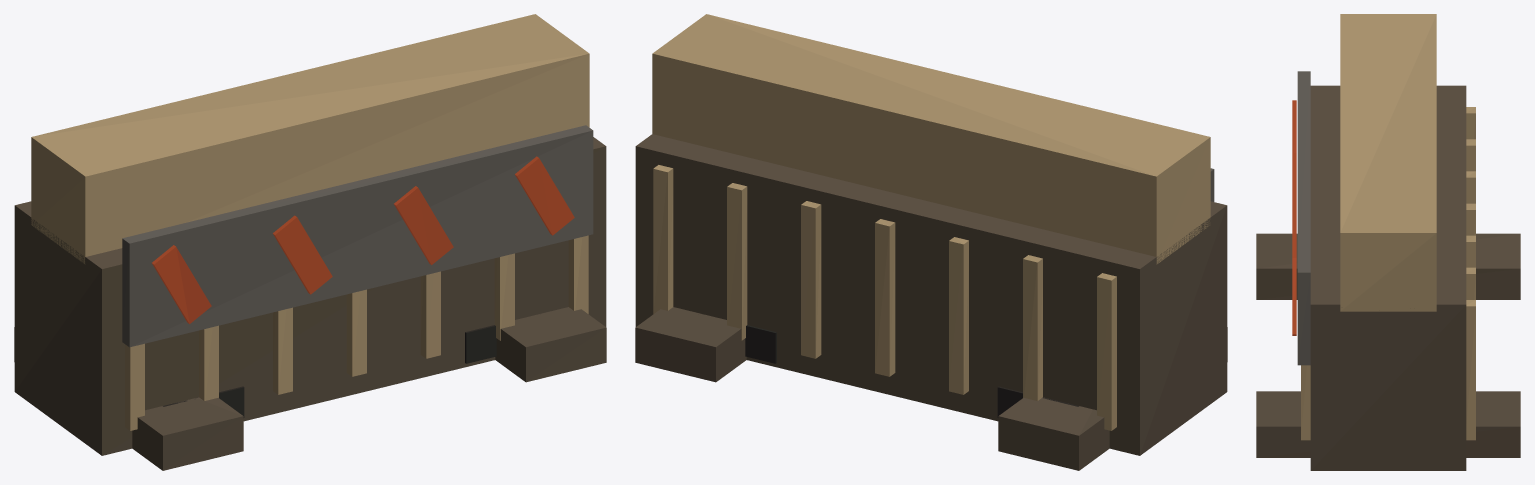
File: tactical_cover_barrier.glb
3 views of the same model, side by side, from view 1: azimuth 30°, elevation 25°; view 2: azimuth 150°, elevation 25°; view 3: azimuth 270°, elevation 25° (orthographic). The views are drawn at different scales.
Parts seen in each view (by area): view 1: Barrier_primary, Barrier_secondary, ArmorPlate, Feet, Ribs, Hazard, Slots; view 2: Barrier_secondary, Barrier_primary, Ribs, Feet, Slots; view 3: Barrier_secondary, Barrier_primary, Feet, ArmorPlate, Ribs, Hazard.
Boxes of the visible parts, left/top/right/bottom form: Barrier_primary: left=31, top=14, right=589, bottom=264; Barrier_secondary: left=14, top=137, right=606, bottom=455; ArmorPlate: left=122, top=125, right=593, bottom=347; Feet: left=14, top=307, right=606, bottom=470; Ribs: left=125, top=235, right=588, bottom=430; Hazard: left=152, top=156, right=574, bottom=323; Slots: left=163, top=325, right=496, bottom=417; Barrier_secondary: left=635, top=134, right=1227, bottom=455; Barrier_primary: left=652, top=14, right=1210, bottom=264; Ribs: left=653, top=165, right=1116, bottom=430; Feet: left=635, top=307, right=1227, bottom=470; Slots: left=745, top=325, right=1078, bottom=417; Barrier_secondary: left=1310, top=85, right=1466, bottom=470; Barrier_primary: left=1340, top=14, right=1436, bottom=311; Feet: left=1256, top=233, right=1520, bottom=457; ArmorPlate: left=1297, top=71, right=1310, bottom=365; Ribs: left=1301, top=107, right=1475, bottom=440; Hazard: left=1292, top=100, right=1296, bottom=335.
Size of the model in its own units: 2.4 by 1.22 by 1.22.
